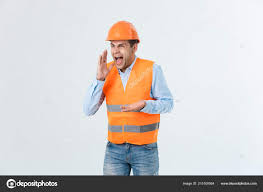Person_wearing_helmet: (100, 13, 143, 55)
